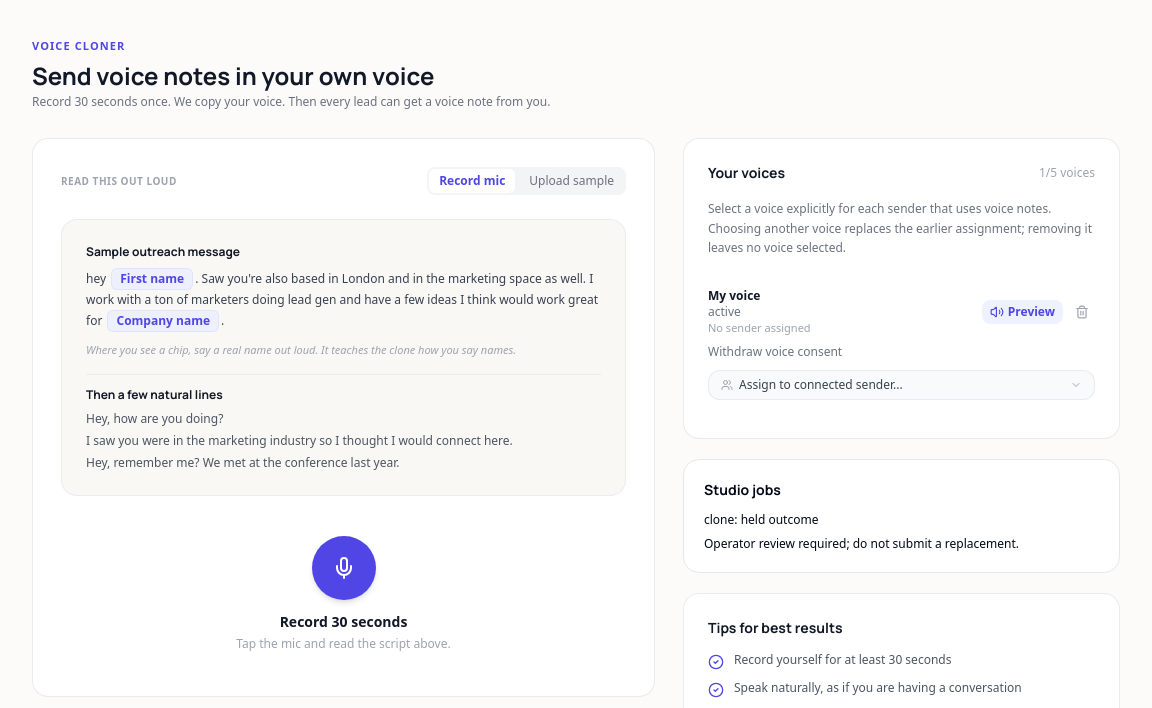
held jobs explain review and preview queues local identity
Later steps or results of the test are not shown.
Click the button "Preview": (1022, 312) [982,300,1063,324]
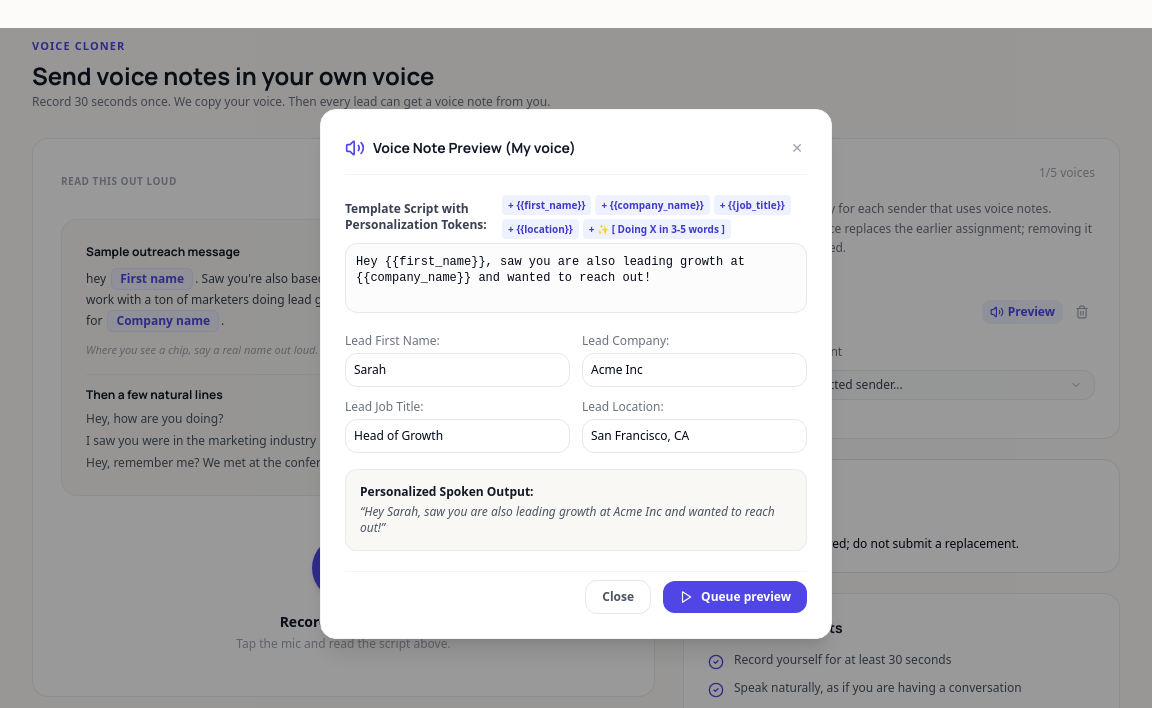
Check: the button "Queue preview" is shown, box [663,581,807,613]
